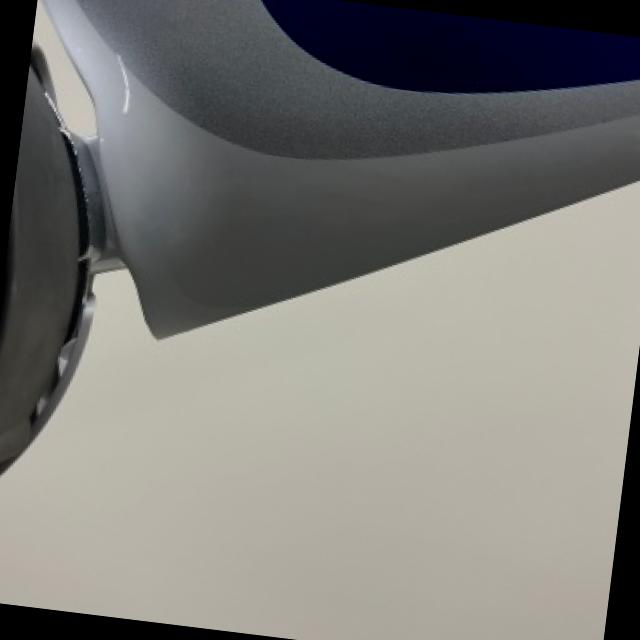healthy: (0, 182, 640, 640), (139, 81, 640, 328)
